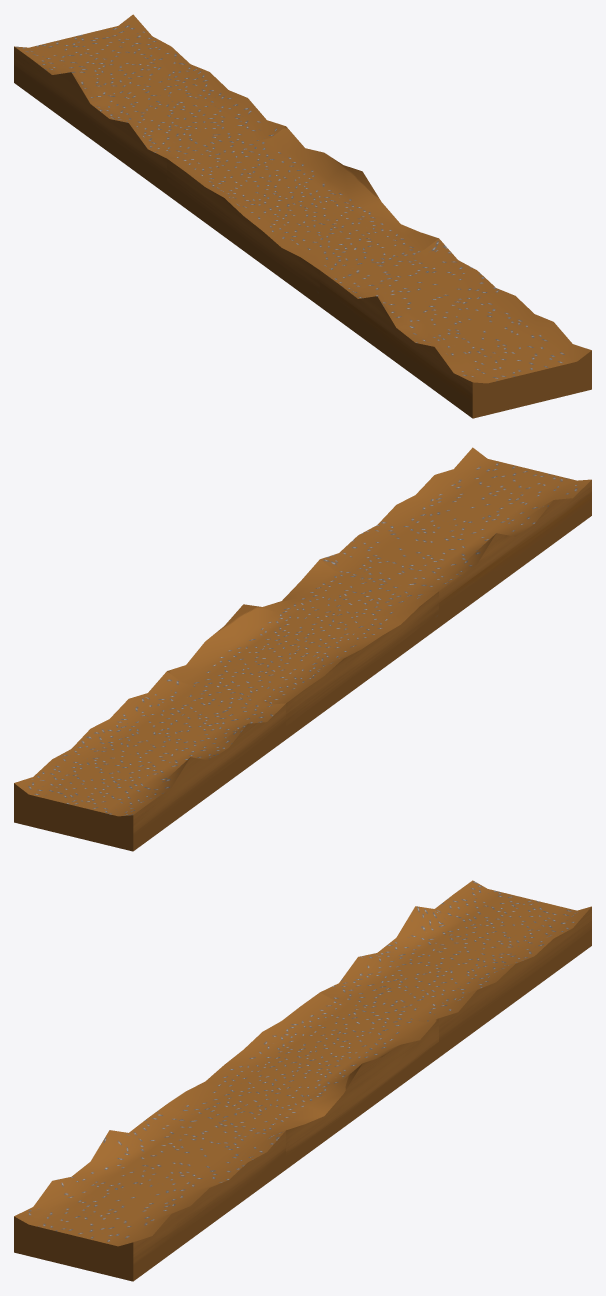
File: Terrain + Texturen.fbx
3 views of the same model, one above another, from view 1: azimuth 30°, elevation 25°; view 2: azimuth 150°, elevation 25°; view 3: azimuth 330°, elevation 25° (orthographic).
Parts seen in each view (by area): view 1: pCube1, pCube2, pCube3; view 2: pCube3, pCube2, pCube1; view 3: pCube1, pCube3, pCube2.
Part boxes in pixels (<box>): pCube1: <box>320,238,591,418</box>; pCube2: <box>167,126,438,306</box>; pCube3: <box>14,14,285,194</box>; pCube3: <box>14,671,285,851</box>; pCube2: <box>167,559,438,739</box>; pCube1: <box>320,447,591,627</box>; pCube1: <box>14,1104,285,1281</box>; pCube3: <box>320,880,591,1057</box>; pCube2: <box>167,992,438,1169</box>.
Bounding box in the file's own units: 3.31 × 1.4 × 22.09.
